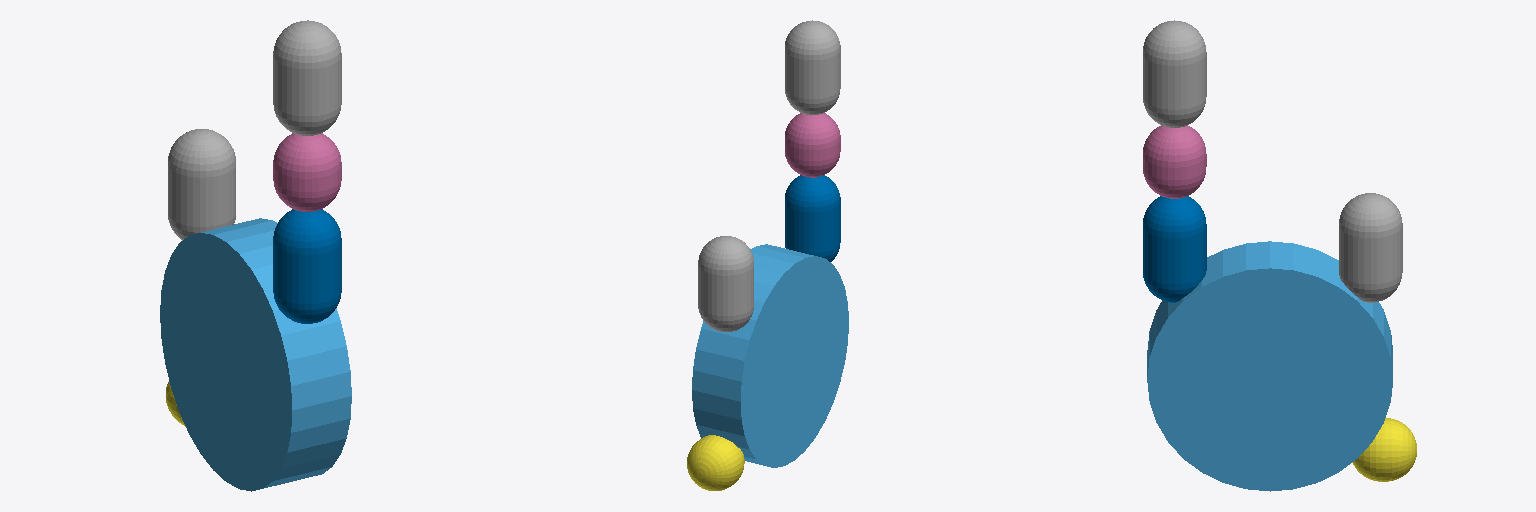
robot.urdf — DexterousHand:
<?xml version="1.0"?>
<robot name="DexterousHand">


    <link name="world"/>
    <joint name="world_to_palm" type="fixed">
        <parent link="world"/>
        <child link="palm"/>
        <origin xyz="0 0 0" rpy="0 0 0"/>
    </joint>
    <link name="palm">
        <inertial>
            <origin xyz="0 0 0.057" rpy="0 0 0"/>
            <mass value="0.30212892864"/>
            <inertia ixx="0.00049080844457568" ixy="0.0" ixz="0.0" iyy="0.00026746366246427523" iyz="0.0" izz="0.00026746366246427523"/>
        </inertial>
        <visual>
            <origin xyz="0 0 0.057" rpy="1.5708 0 1.5708"/>
            <geometry>
                <cylinder radius="0.057" length="0.0296"/>
            </geometry>
            <material name="default"/>
        </visual>
        <collision>
            <origin xyz="0 0 0.057" rpy="1.5708 0 1.5708"/>
            <geometry>
                <cylinder radius="0.057" length="0.0296"/>
            </geometry>
        </collision>
    </link>

    
    <joint name="thumb_joint1" type="revolute">
        <parent link="palm"/>
        <child link="thumb_base"/>
        <origin xyz="0.0029 0.0368 0.0157" rpy="-1.5708 -1.5708 0.0"/>
        <axis xyz="-1 0 0"/>
        <limit lower="-0.349" upper="2.094" effort="1.0" velocity="1.0"/>
    </joint>

    <link name="thumb_base"></link>

    <joint name="thumb_joint2" type="revolute">
        <parent link="thumb_base"/>
        <child link="thumb_proximal"/>
        <origin xyz="0.0 0.0 0.0" rpy="0.0 0.0 0.0"/>
        <axis xyz="0 0 1"/>
        <limit lower="-0.47" upper="2.443" effort="1.0" velocity="1.0"/>
    </joint>

    <link name="thumb_proximal">
        <inertial>
            <origin xyz="0 0 0.01565" rpy="0 0 0"/>
            <mass value="0.021538658803200002"/>
            <inertia ixx="2.9378910096388167e-06" ixy="0.0" ixz="0.0" 
            iyy="2.9378910096388167e-06" iyz="0.0" izz="2.358913912126464e-06"/>
        </inertial>
        <visual>
            <origin xyz="0 0 0.01565" rpy="0 0 0"/>
            <geometry>
                <cylinder radius="0.0148" length="0.0017000000000000001"/>
            </geometry>
            <material name="default"/>
        </visual>
        <visual>
            <origin xyz="0 0 0.0148" rpy="0 0 0"/>
            <geometry>
                <sphere radius="0.0148"/>
            </geometry>
            <material name="default"/>
        </visual>
        <visual>
            <origin xyz="0 0 0.0165" rpy="0 0 0"/>
            <geometry>
                <sphere radius="0.0148"/>
            </geometry>
            <material name="default"/>
        </visual>
        <collision>
            <origin xyz="0 0 0.01565" rpy="0 0 0"/>
            <geometry>
                <cylinder radius="0.0148" length="0.0017000000000000001"/>
            </geometry>
        </collision>
        <collision>
            <origin xyz="0 0 0.0148" rpy="0 0 0"/>
            <geometry>
                <sphere radius="0.0148"/>
            </geometry>
        </collision>
        <collision>
            <origin xyz="0 0 0.0165" rpy="0 0 0"/>
            <geometry>
                <sphere radius="0.0148"/>
            </geometry>
        </collision>
    </link>

    <joint name="thumb_joint3" type="revolute">
        <parent link="thumb_proximal"/>
        <child link="thumb_knuckle"/>
        <origin xyz="0.0 0.0 0.0" rpy="0.0 0.0 0.0"/>
        <axis xyz="1 0 0"/>
        <limit lower="0.0" upper="0.0" effort="1.0" velocity="1.0"/>
    </joint>

    <link name="thumb_knuckle"></link>

    <joint name="thumb_joint4" type="revolute">
        <parent link="thumb_knuckle"/>
        <child link="thumb_middle"/>
        <origin xyz="0 0 0" rpy="0 0 0"/> 
        <axis xyz="0 1 0"/>
        <limit lower="0.0" upper="0.0" effort="1.0" velocity="1.0"/>
    </joint>

    <link name="thumb_middle">
    </link>

    <joint name="thumb_joint5" type="revolute">
        <parent link="thumb_middle"/>
        <child link="thumb_distal"/>
        <origin xyz="0 0 0" rpy="0 0 0"/> 
        <axis xyz="0 1 0"/>
        <limit lower="0.0" upper="0.0" effort="1.0" velocity="1.0"/>
    </joint>

    <link name="thumb_distal">
    </link>

    
    <joint name="index_joint1" type="revolute">
        <parent link="palm"/>
        <child link="index_proximal"/>
        <origin xyz="0.0 0.0465 0.091" rpy="0.0 0.0 0.0"/>
        <axis xyz="0 1 0"/>
        <limit lower="-0.314" upper="2.23" effort="1.0" velocity="1.0"/>
    </joint>

    <link name="index_proximal">
        <inertial>
            <origin xyz="0 0 0.02655" rpy="0 0 0"/>
            <mass value="0.036540024998400006"/>
            <inertia ixx="1.058665009272394e-05" ixy="0.0" ixz="0.0" 
            iyy="1.058665009272394e-05" iyz="0.0" izz="4.001863537824769e-06"/>
        </inertial>
        <visual>
            <origin xyz="0 0 0.02655" rpy="0 0 0"/>
            <geometry>
                <cylinder radius="0.0148" length="0.0235"/>
            </geometry>
            <material name="default"/>
        </visual>
        <visual>
            <origin xyz="0 0 0.0148" rpy="0 0 0"/>
            <geometry>
                <sphere radius="0.0148"/>
            </geometry>
            <material name="default"/>
        </visual>
        <visual>
            <origin xyz="0 0 0.0383" rpy="0 0 0"/>
            <geometry>
                <sphere radius="0.0148"/>
            </geometry>
            <material name="default"/>
        </visual>
        <collision>
            <origin xyz="0 0 0.02655" rpy="0 0 0"/>
            <geometry>
                <cylinder radius="0.0148" length="0.0235"/>
            </geometry>
        </collision>
        <collision>
            <origin xyz="0 0 0.0148" rpy="0 0 0"/>
            <geometry>
                <sphere radius="0.0148"/>
            </geometry>
        </collision>
        <collision>
            <origin xyz="0 0 0.0383" rpy="0 0 0"/>
            <geometry>
                <sphere radius="0.0148"/>
            </geometry>
        </collision>
    </link>

    <joint name="index_joint2" type="revolute">
        <parent link="index_proximal"/>
        <child link="index_dummy"/>
        <origin xyz="0.0 0.0 0.038" rpy="0.0 0.0 0.0"/>
        <axis xyz="0 1 0"/>
        <limit lower="0.0" upper="0.0" effort="1.0" velocity="1.0"/>
    </joint>

    <link name="index_dummy"></link>

    <joint name="index_joint3" type="revolute">
        <parent link="index_dummy"/>
        <child link="index_middle"/>
        <origin xyz="0 0 0.015100000000000002" rpy="0 0 0"/>
        <axis xyz="0 1 0"/>
        <limit lower="0.0" upper="0.0" effort="1.0" velocity="1.0"/>
    </joint>

    <link name="index_middle">
    </link>

    <joint name="index_joint4" type="revolute">
        <parent link="index_middle"/>
        <child link="index_distal"/>
        <origin xyz="0 0 0" rpy="0 0 0"/> 
        <axis xyz="0 1 0"/>
        <limit lower="0.0" upper="0.0" effort="1.0" velocity="1.0"/>
    </joint>

    <link name="index_distal">
    </link>

    
    <joint name="middle_joint1" type="revolute">
        <parent link="palm"/>
        <child link="middle_proximal"/>
        <origin xyz="0.0 0.0 0.0" rpy="0.0 0.0 0.0"/>
        <axis xyz="1 0 0"/>
        <limit lower="0.0" upper="0.0" effort="1.0" velocity="1.0"/>
    </joint>

    <link name="middle_proximal">
    </link>

    <joint name="middle_joint2" type="revolute">
        <parent link="middle_proximal"/>
        <child link="middle_dummy"/>
        <origin xyz="0.0 0.0 0.0" rpy="0.0 0.0 0.0"/>
        <axis xyz="0 1 0"/>
        <limit lower="0.0" upper="0.0" effort="1.0" velocity="1.0"/>
    </joint>

    <link name="middle_dummy"></link>

    <joint name="middle_joint3" type="revolute">
        <parent link="middle_dummy"/>
        <child link="middle_middle"/>
        <origin xyz="0 0 0" rpy="0 0 0"/>
        <axis xyz="0 1 0"/>
        <limit lower="0.0" upper="0.0" effort="1.0" velocity="1.0"/>
    </joint>

    <link name="middle_middle">
    </link>

    <joint name="middle_joint4" type="revolute">
        <parent link="middle_middle"/>
        <child link="middle_distal"/>
        <origin xyz="0 0 0" rpy="0 0 0"/> 
        <axis xyz="0 1 0"/>
        <limit lower="0.0" upper="0.0" effort="1.0" velocity="1.0"/>
    </joint>

    <link name="middle_distal">
    </link>

    
    <joint name="ring_joint1" type="revolute">
        <parent link="palm"/>
        <child link="ring_proximal"/>
        <origin xyz="0.0 0.0 0.0" rpy="0.0 0.0 0.0"/>
        <axis xyz="1 0 0"/>
        <limit lower="0.0" upper="0.0" effort="1.0" velocity="1.0"/>
    </joint>

    <link name="ring_proximal">
    </link>

    <joint name="ring_joint2" type="revolute">
        <parent link="ring_proximal"/>
        <child link="ring_dummy"/>
        <origin xyz="0.0 0.0 0.0" rpy="0.0 0.0 0.0"/>
        <axis xyz="0 1 0"/>
        <limit lower="0.0" upper="0.0" effort="1.0" velocity="1.0"/>
    </joint>

    <link name="ring_dummy"></link>

    <joint name="ring_joint3" type="revolute">
        <parent link="ring_dummy"/>
        <child link="ring_middle"/>
        <origin xyz="0 0 0" rpy="0 0 0"/>
        <axis xyz="0 1 0"/>
        <limit lower="0.0" upper="0.0" effort="1.0" velocity="1.0"/>
    </joint>

    <link name="ring_middle">
    </link>

    <joint name="ring_joint4" type="revolute">
        <parent link="ring_middle"/>
        <child link="ring_distal"/>
        <origin xyz="0 0 0" rpy="0 0 0"/> 
        <axis xyz="0 1 0"/>
        <limit lower="0.0" upper="0.0" effort="1.0" velocity="1.0"/>
    </joint>

    <link name="ring_distal">
    </link>

    
    <joint name="little_joint0" type="revolute">
        <parent link="palm"/>
        <child link="little_base"/>
        <origin xyz="0.0 0.0 0.0" rpy="0.0 0.0 0.0"/>
        <axis xyz="0 1 0"/>
        <limit lower="0.0" upper="0.0" effort="1.0" velocity="1.0"/>
    </joint>

    <link name="little_base"></link>

    <joint name="little_joint1" type="revolute">
        <parent link="little_base"/>
        <child link="little_proximal"/>
        <origin xyz="0.0 -0.0443 0.091" rpy="-0.0 -0.0 -0.0"/>
        <axis xyz="0 1 0"/>
        <limit lower="-0.314" upper="2.23" effort="1.0" velocity="1.0"/>
    </joint>

    <link name="little_proximal">
        <inertial>
            <origin xyz="0 0 0.02655" rpy="0 0 0"/>
            <mass value="0.036540024998400006"/>
            <inertia ixx="1.058665009272394e-05" ixy="0.0" ixz="0.0" 
            iyy="1.058665009272394e-05" iyz="0.0" izz="4.001863537824769e-06"/>
        </inertial>
        <visual>
            <origin xyz="0 0 0.02655" rpy="0 0 0"/>
            <geometry>
                <cylinder radius="0.0148" length="0.0235"/>
            </geometry>
            <material name="default"/>
        </visual>
        <visual>
            <origin xyz="0 0 0.0148" rpy="0 0 0"/>
            <geometry>
                <sphere radius="0.0148"/>
            </geometry>
            <material name="default"/>
        </visual>
        <visual>
            <origin xyz="0 0 0.0383" rpy="0 0 0"/>
            <geometry>
                <sphere radius="0.0148"/>
            </geometry>
            <material name="default"/>
        </visual>
        <collision>
            <origin xyz="0 0 0.02655" rpy="0 0 0"/>
            <geometry>
                <cylinder radius="0.0148" length="0.0235"/>
            </geometry>
        </collision>
        <collision>
            <origin xyz="0 0 0.0148" rpy="0 0 0"/>
            <geometry>
                <sphere radius="0.0148"/>
            </geometry>
        </collision>
        <collision>
            <origin xyz="0 0 0.0383" rpy="0 0 0"/>
            <geometry>
                <sphere radius="0.0148"/>
            </geometry>
        </collision>
    </link>

    <joint name="little_joint2" type="revolute">
        <parent link="little_proximal"/>
        <child link="little_dummy"/>
        <origin xyz="0.0 0.0 0.038" rpy="0.0 0.0 0.0"/>
        <axis xyz="1 0 0"/>
        <limit lower="-1.047" upper="1.047" effort="1.0" velocity="1.0"/>
    </joint>

    <link name="little_dummy"></link>

    <joint name="little_joint3" type="revolute">
        <parent link="little_dummy"/>
        <child link="little_middle"/>
        <origin xyz="0 0 0.015100000000000002" rpy="0 0 0"/>
        <axis xyz="0 1 0"/>
        <limit lower="-0.506" upper="1.885" effort="1.0" velocity="1.0"/>
    </joint>

    <link name="little_middle">
        <inertial>
            <origin xyz="0 0 0.01805" rpy="0 0 0"/>
            <mass value="0.0248417119104"/>
            <inertia ixx="4.058162759109537e-06" ixy="0.0" ixz="0.0" 
            iyy="4.058162759109537e-06" iyz="0.0" izz="2.7206642884270085e-06"/>
        </inertial>
        <visual>
            <origin xyz="0 0 0.01805" rpy="0 0 0"/>
            <geometry>
                <cylinder radius="0.0148" length="0.006499999999999999"/>
            </geometry>
            <material name="default"/>
        </visual>
        <visual>
            <origin xyz="0 0 0.0148" rpy="0 0 0"/>
            <geometry>
                <sphere radius="0.0148"/>
            </geometry>
            <material name="default"/>
        </visual>
        <visual>
            <origin xyz="0 0 0.0213" rpy="0 0 0"/>
            <geometry>
                <sphere radius="0.0148"/>
            </geometry>
            <material name="default"/>
        </visual>
        <collision>
            <origin xyz="0 0 0.01805" rpy="0 0 0"/>
            <geometry>
                <cylinder radius="0.0148" length="0.006499999999999999"/>
            </geometry>
        </collision>
        <collision>
            <origin xyz="0 0 0.0148" rpy="0 0 0"/>
            <geometry>
                <sphere radius="0.0148"/>
            </geometry>
        </collision>
        <collision>
            <origin xyz="0 0 0.0213" rpy="0 0 0"/>
            <geometry>
                <sphere radius="0.0148"/>
            </geometry>
        </collision>
    </link>

    <joint name="little_joint4" type="revolute">
        <parent link="little_middle"/>
        <child link="little_distal"/>
        <origin xyz="0 0 0.0361" rpy="0 0 0"/>
        <axis xyz="0 1 0"/>
        <limit lower="-0.366" upper="2.042" effort="1.0" velocity="1.0"/>
    </joint>

    <link name="little_distal">
        <inertial>
            <origin xyz="0 0 0.026" rpy="0 0 0"/>
            <mass value="0.035783075328"/>
            <inertia ixx="1.002260084553728e-05" ixy="0.0" ixz="0.0" 
            iyy="1.002260084553728e-05" iyz="0.0" izz="3.91896240992256e-06"/>
        </inertial>
        <visual>
            <origin xyz="0 0 0.026" rpy="0 0 0"/>
            <geometry>
                <cylinder radius="0.0148" length="0.022399999999999996"/>
            </geometry>
            <material name="default"/>
        </visual>
        <visual>
            <origin xyz="0 0 0.0148" rpy="0 0 0"/>
            <geometry>
                <sphere radius="0.0148"/>
            </geometry>
            <material name="default"/>
        </visual>
        <visual>
            <origin xyz="0 0 0.0372" rpy="0 0 0"/>
            <geometry>
                <sphere radius="0.0148"/>
            </geometry>
            <material name="default"/>
        </visual>
        <collision>
            <origin xyz="0 0 0.026" rpy="0 0 0"/>
            <geometry>
                <cylinder radius="0.0148" length="0.022399999999999996"/>
            </geometry>
        </collision>
        <collision>
            <origin xyz="0 0 0.0148" rpy="0 0 0"/>
            <geometry>
                <sphere radius="0.0148"/>
            </geometry>
        </collision>
        <collision>
            <origin xyz="0 0 0.0372" rpy="0 0 0"/>
            <geometry>
                <sphere radius="0.0148"/>
            </geometry>
        </collision>
    </link>

</robot>

--- Render facts (derived) ---
Views: 3 orthographic renders of the robot side by side, from view 1: azimuth 30°, elevation 25°; view 2: azimuth 150°, elevation 25°; view 3: azimuth 270°, elevation 25°.
Robot: DexterousHand — 24 links, 23 joints (22 revolute, 1 fixed); root link world; default pose: every joint at zero.
Links seen in each view (by area): view 1: palm, little_proximal, little_distal, index_proximal, little_middle; view 2: palm, index_proximal, little_distal, little_proximal, little_middle, thumb_proximal; view 3: palm, index_proximal, little_distal, little_proximal, little_middle, thumb_proximal.
Boxes of the visible links, box(x1,y1,x2,y2) form: palm: box(160, 218, 351, 491); little_proximal: box(273, 209, 341, 323); little_distal: box(273, 20, 341, 135); index_proximal: box(168, 129, 235, 240); little_middle: box(273, 133, 341, 211); palm: box(692, 244, 848, 467); index_proximal: box(698, 236, 753, 332); little_distal: box(785, 20, 840, 114); little_proximal: box(785, 175, 840, 261); little_middle: box(785, 113, 840, 177); thumb_proximal: box(687, 435, 744, 490); palm: box(1147, 241, 1392, 491); index_proximal: box(1339, 193, 1402, 302); little_distal: box(1143, 20, 1206, 127); little_proximal: box(1143, 196, 1206, 302); little_middle: box(1143, 125, 1206, 198); thumb_proximal: box(1352, 418, 1416, 481).
Bounding box of the posed robot: 0.0325 × 0.1272 × 0.2322 m (x, y, z).
Geometry: primitives only (box / cylinder / sphere), no mesh files.
